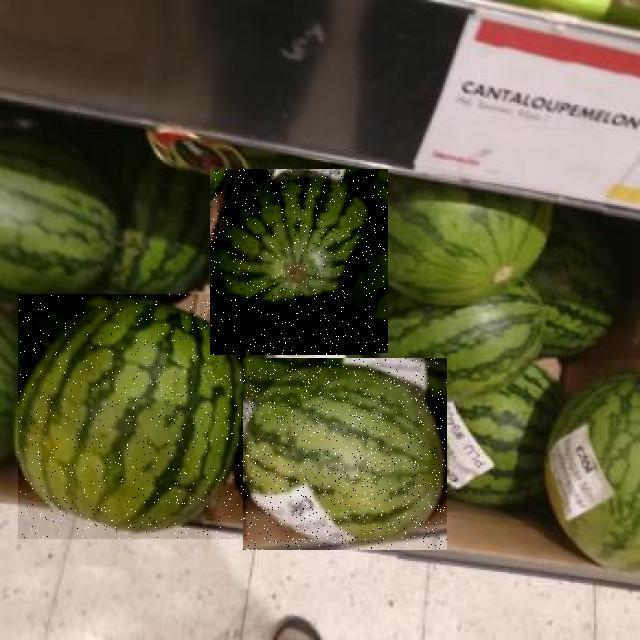Watermelon: (19, 294, 247, 539), (243, 359, 447, 551), (210, 169, 388, 355)
